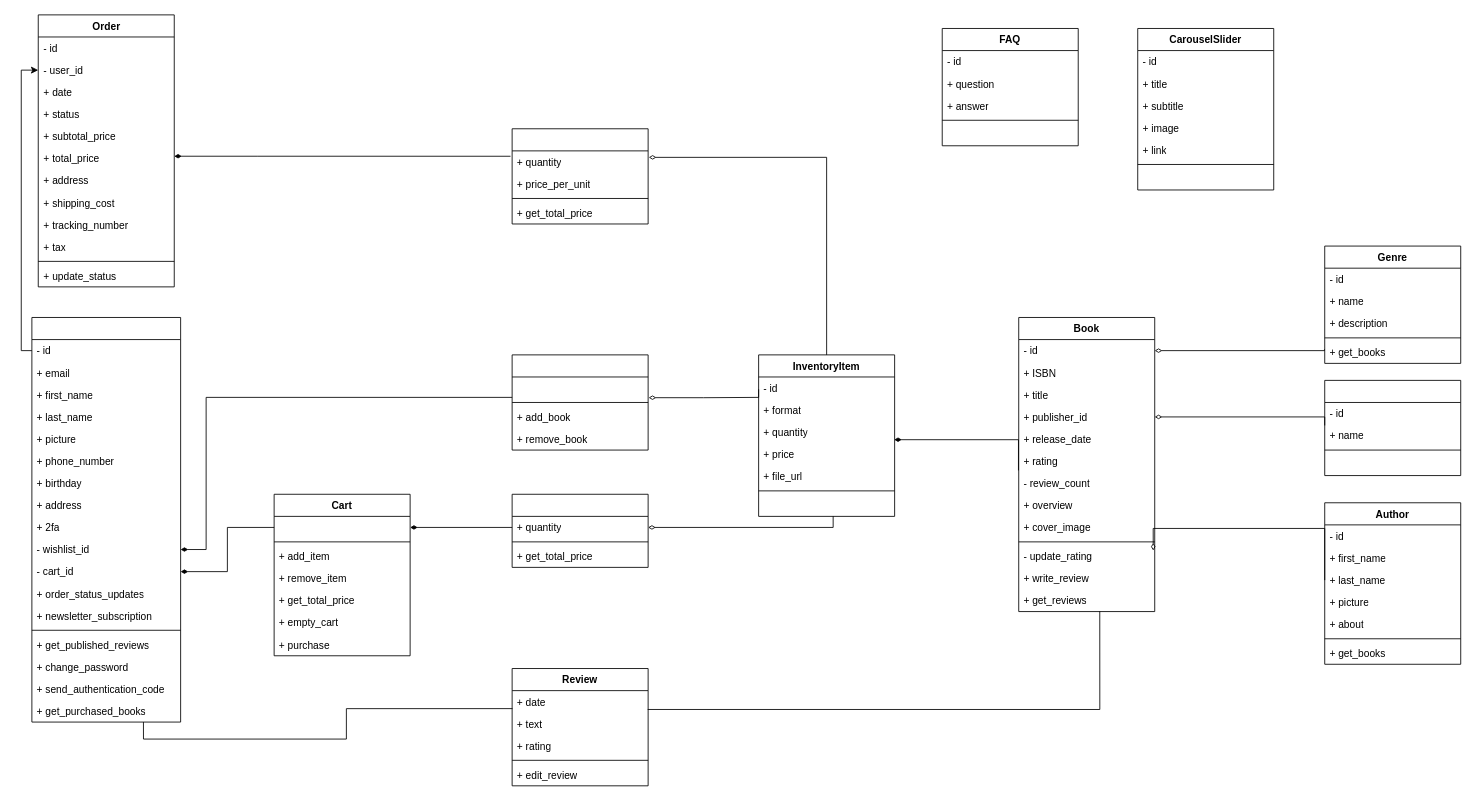
Image size: 1476x803. Some labels were removed from this diagram. The box of each missing label's shape, as (x1, y1, x2, y2) in pixels:
CartItem: (511, 493, 648, 567)
OrderItem: (511, 128, 648, 224)
Publisher: (1324, 380, 1461, 476)
User: (31, 317, 181, 722)
Wishlist: (511, 354, 648, 450)
